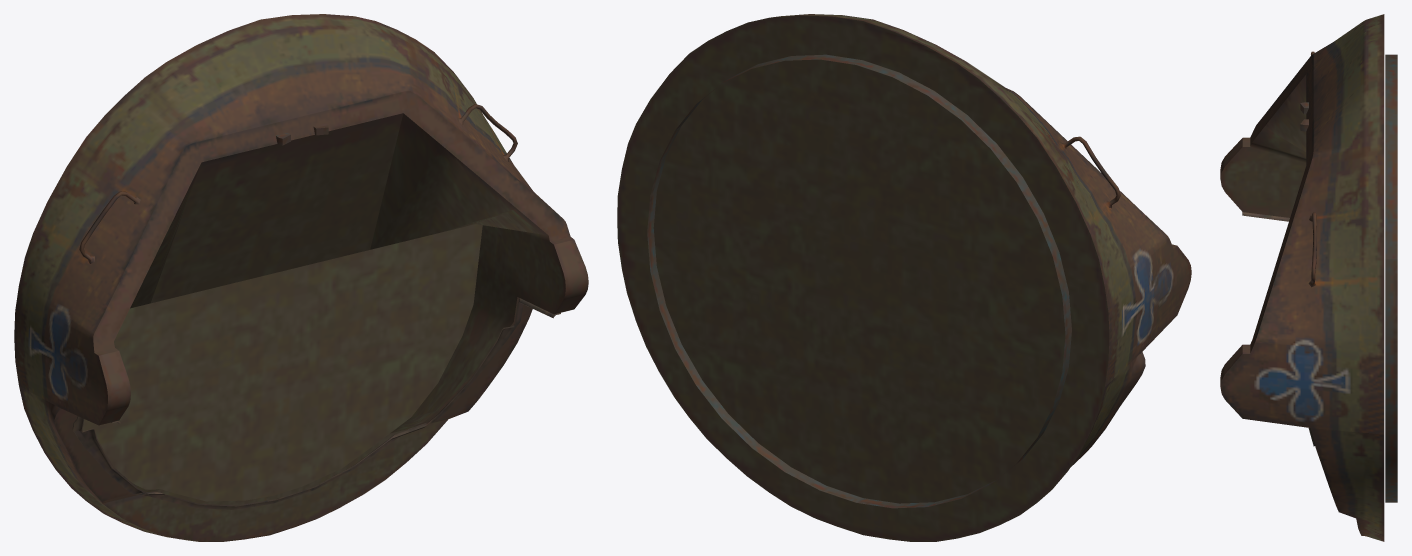
The model's file is Turret_03.glb.
The picture shows the model from 3 angles, left to right: view 1: azimuth 30°, elevation 25°; view 2: azimuth 150°, elevation 25°; view 3: azimuth 270°, elevation 25°; orthographic projection. The views are drawn at different scales.
Visible parts, largest first — view 1: set_0_group_0; view 2: set_0_group_0; view 3: set_0_group_0.
Boxes of the visible parts, box(x1,y1,x2,y2) form: set_0_group_0: box(14, 14, 588, 541); set_0_group_0: box(617, 14, 1191, 541); set_0_group_0: box(1220, 14, 1397, 541).
Bounding box in the file's own units: 1.81 × 1.81 × 0.6056.
Materials: 1 (1 with a texture image).
